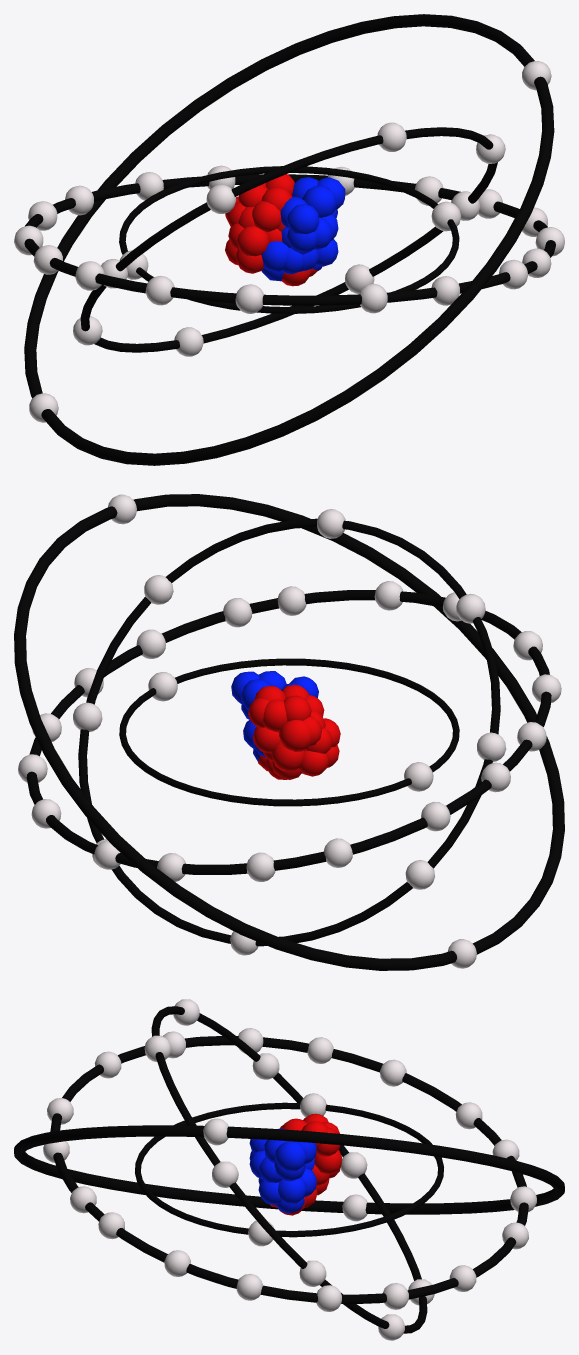
File: 30 Zinc.fbx
3 views of the same model, one above another, from view 1: azimuth 30°, elevation 25°; view 2: azimuth 150°, elevation 25°; view 3: azimuth 270°, elevation 25° (orthographic). The views are drawn at different scales.
Parts seen in each view (by area): view 1: Orbita.004, Orbita.002, Orbita.003, Orbita.001, Neutron.006, Neutron.001, Sphere.031, Sphere.013, Sphere.033, Electron.010, Electron.017, Electron.021 (+17 smaller); view 2: Orbita.004, Orbita.002, Orbita.003, Orbita.001, Neutron.006, Neutron.005, Neutron.002, Electron.009, Electron.004, Electron.023, Electron.025, Electron.002 (+20 smaller); view 3: Orbita.004, Orbita.003, Orbita.002, Orbita.001, Neutron.006, Neutron.003, Electron.027, Electron.004, Electron.022, Electron.012, Electron.009, Electron.005 (+22 smaller).
Part boxes in pixels (box(x1,y1,x2,y2)): Orbita.004: box(24, 14, 554, 465); Orbita.002: box(80, 127, 497, 352); Orbita.003: box(24, 174, 555, 305); Orbita.001: box(119, 166, 459, 313); Neutron.006: box(292, 177, 345, 218); Neutron.001: box(261, 241, 288, 281); Sphere.031: box(286, 204, 319, 233); Sphere.013: box(236, 226, 269, 256); Sphere.033: box(252, 201, 281, 232); Electron.010: box(206, 184, 236, 213); Electron.017: box(235, 284, 263, 313); Electron.021: box(359, 283, 387, 313); Orbita.004: box(14, 494, 564, 970); Orbita.002: box(78, 518, 500, 946); Orbita.003: box(26, 590, 551, 874); Orbita.001: box(119, 658, 459, 806); Neutron.006: box(231, 671, 286, 719); Neutron.005: box(278, 710, 325, 751); Neutron.002: box(263, 742, 304, 779); Electron.009: box(405, 860, 434, 889); Electron.004: box(144, 575, 173, 604); Electron.023: box(324, 838, 352, 867); Electron.025: box(223, 598, 252, 627); Electron.002: box(477, 732, 506, 761); Orbita.004: box(14, 1125, 564, 1214); Orbita.003: box(50, 1036, 528, 1304); Orbita.002: box(151, 1006, 427, 1333); Orbita.001: box(135, 1102, 443, 1237); Neutron.006: box(264, 1140, 316, 1181); Neutron.003: box(275, 1168, 316, 1213); Electron.027: box(236, 1273, 262, 1300); Electron.004: box(212, 1161, 238, 1187); Electron.022: box(307, 1037, 333, 1063); Electron.012: box(380, 1059, 406, 1086); Electron.009: box(340, 1152, 367, 1178); Electron.005: box(316, 1285, 341, 1311).
Bounding box in the file's own units: 13.79 × 12.39 × 8.11.
